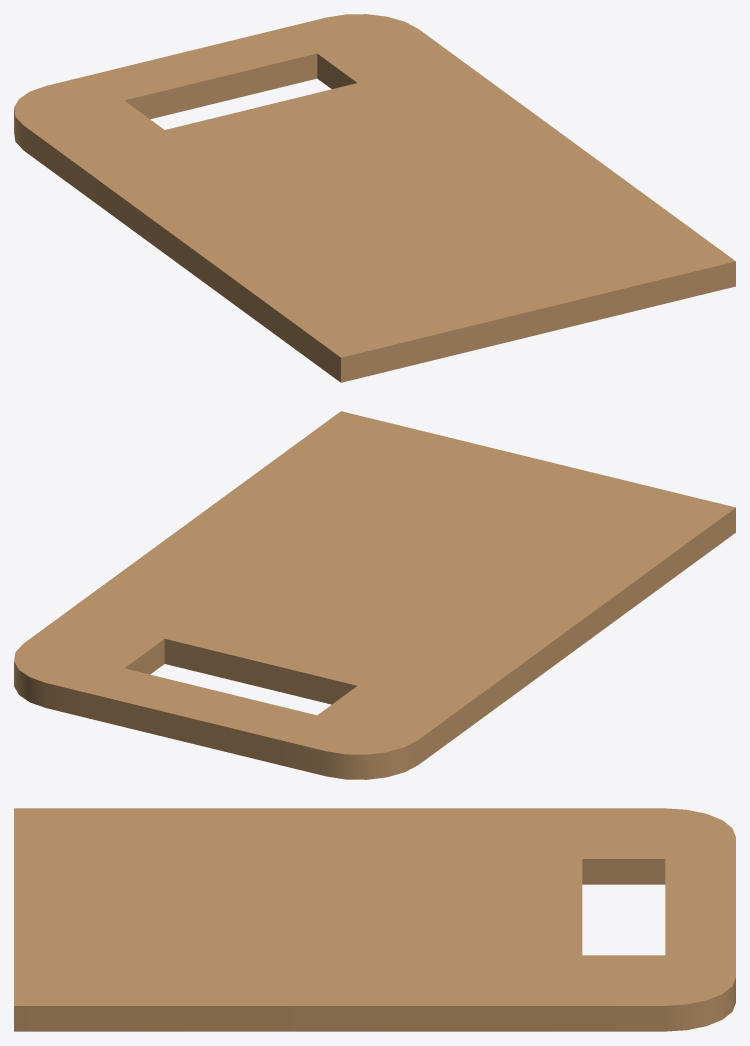
File: chopping_board_1.glb
3 renders of one model, top to bottom at view 1: azimuth 30°, elevation 25°; view 2: azimuth 150°, elevation 25°; view 3: azimuth 270°, elevation 25°, orthographic. The views are drawn at different scales.
Parts seen in each view (by area): view 1: chopping_board_1.001; view 2: chopping_board_1.001; view 3: chopping_board_1.001.
Boxes of the visible parts, box(x1,y1,x2,y2) form: chopping_board_1.001: box(14, 14, 735, 382); chopping_board_1.001: box(14, 411, 735, 779); chopping_board_1.001: box(14, 808, 735, 1031).
Size of the model in its own units: 0.1517 by 0.00922 by 0.2343.
Materials: 1 (1 with a texture image).
